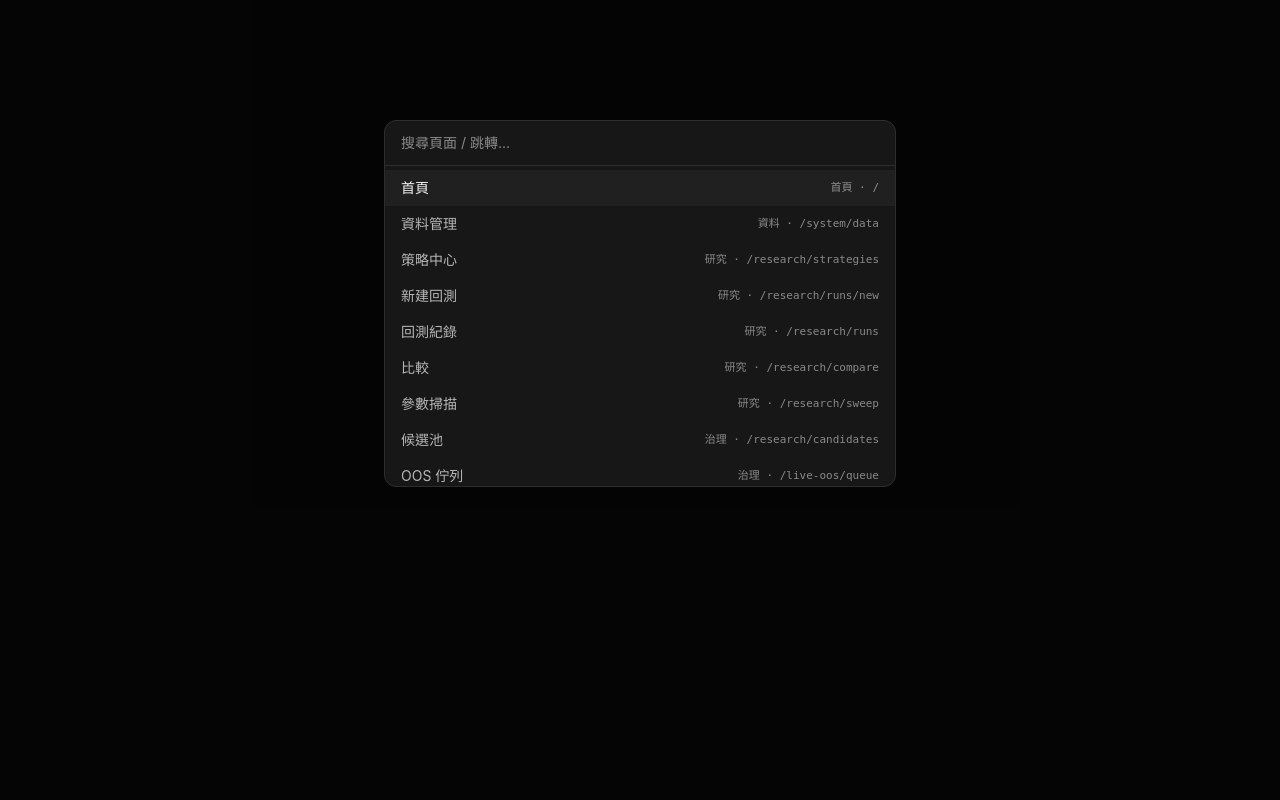
Scenario: CommandPalette › lists nav commands and filters by query
Type "風控" into the dropdown with placeholder "搜尋頁面 / 跳轉…".
click(640, 144); type("風控")  # box left=385, top=121, right=895, bottom=166
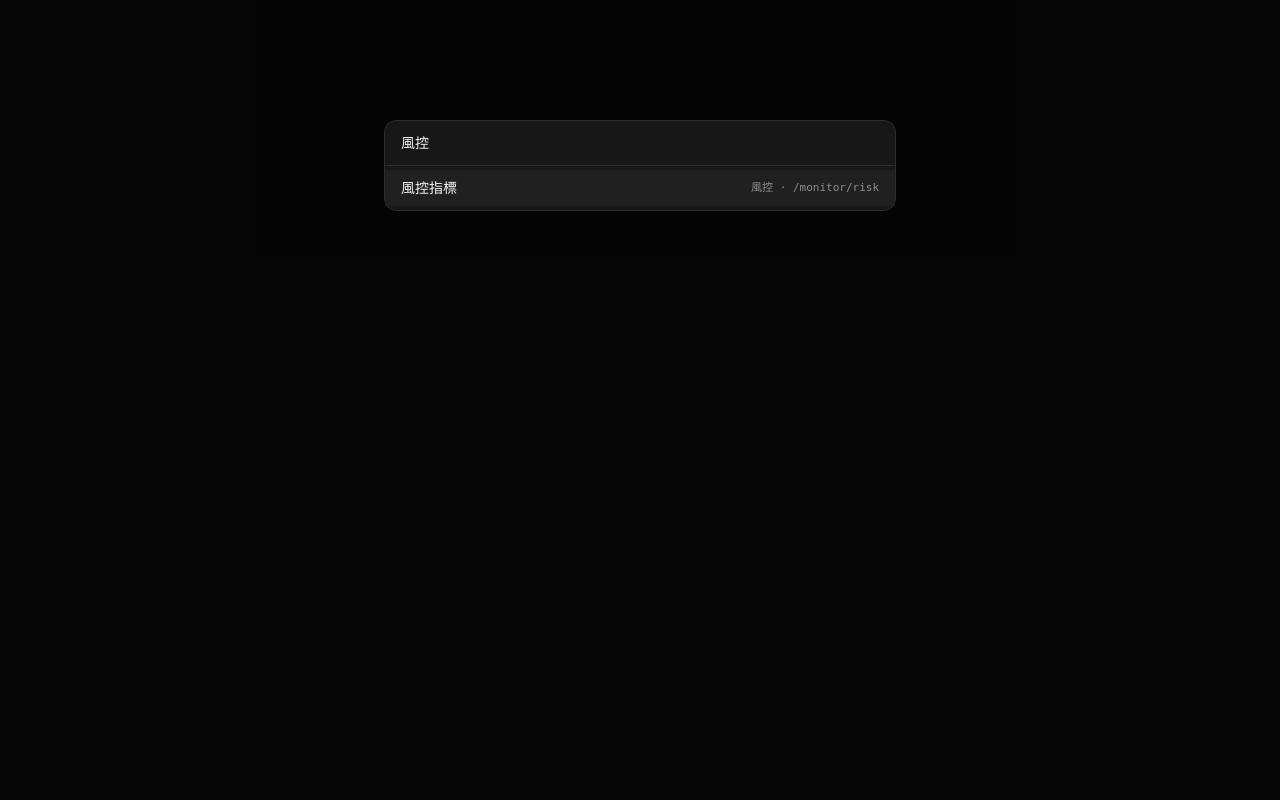
Expected: the text "績效總覽" is not shown
Expected: the text "風控指標" is shown, left=401, top=178, right=457, bottom=198
